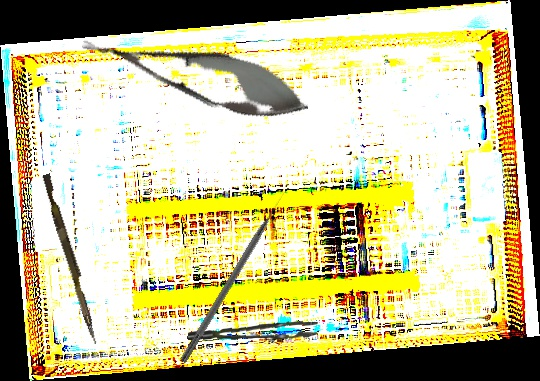Hook Surgical: (178, 189, 290, 365)
Micro Scissor: (75, 17, 316, 133)
Pusher: (38, 173, 104, 345)
Tissue Forceps: (187, 313, 319, 349)
